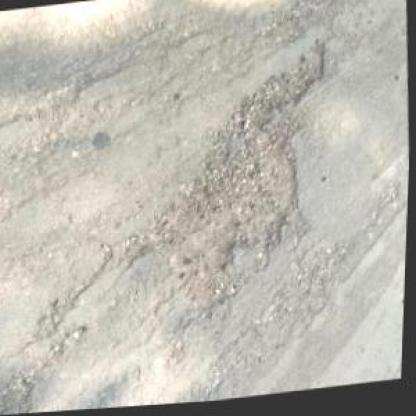pothole: (126, 98, 322, 328), (229, 41, 330, 118)
